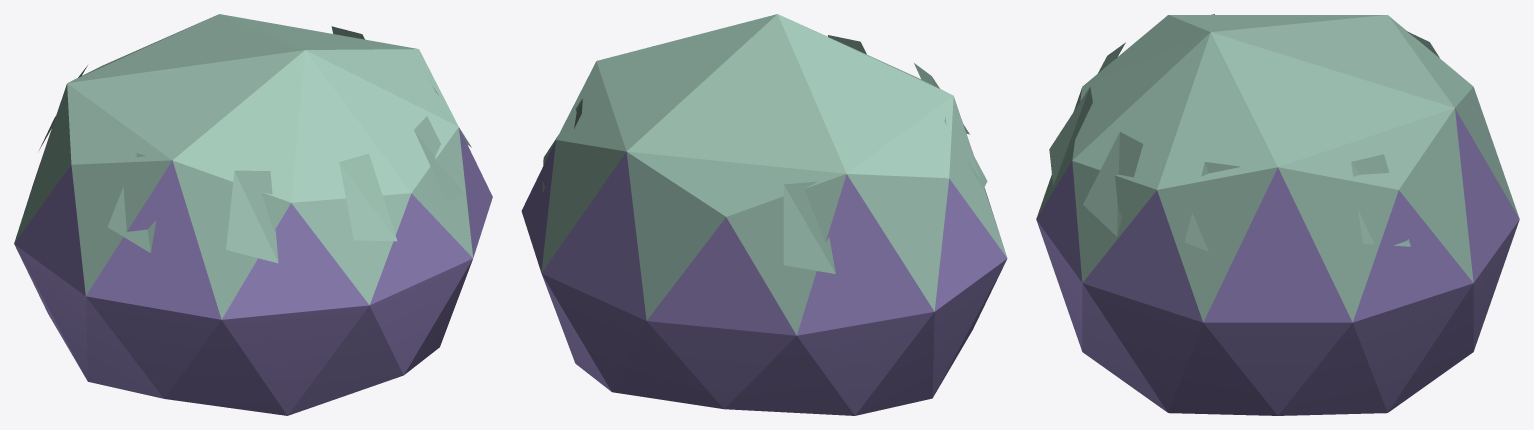
The model's file is moss-rock.glb.
3 renders of one model, left to right at view 1: azimuth 30°, elevation 25°; view 2: azimuth 150°, elevation 25°; view 3: azimuth 270°, elevation 25°, orthographic. The views are drawn at different scales.
Parts seen in each view (by area): view 1: root_mesh; view 2: root_mesh; view 3: root_mesh.
Part boxes in pixels (x1=…): root_mesh: x1=14, y1=14, x2=492, y2=415; root_mesh: x1=521, y1=14, x2=1007, y2=415; root_mesh: x1=1036, y1=14, x2=1519, y2=415.
Bounding box in the file's own units: 0.5 × 0.364 × 0.4942.
